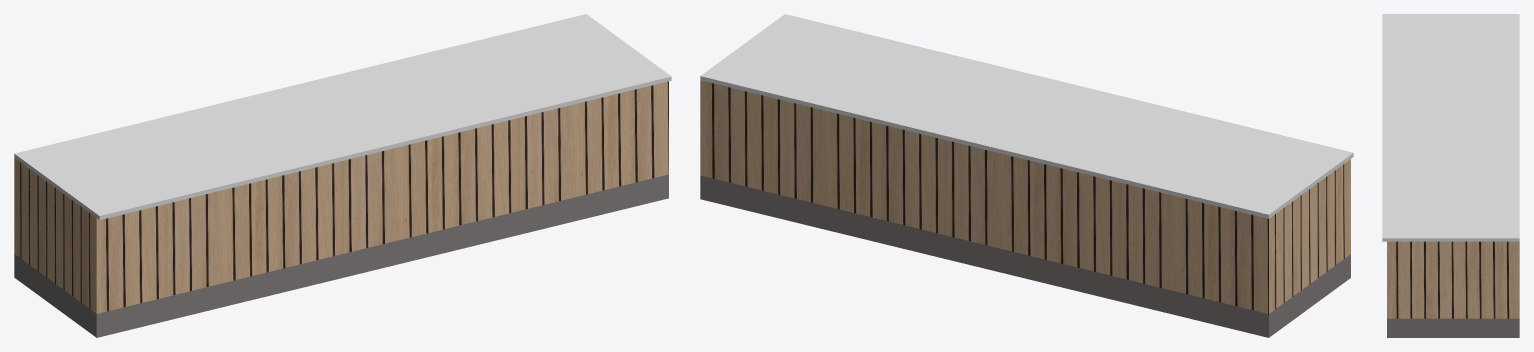
File: Counter.glb
The picture shows the model from 3 angles, left to right: view 1: azimuth 30°, elevation 25°; view 2: azimuth 150°, elevation 25°; view 3: azimuth 270°, elevation 25°; orthographic projection. The views are drawn at different scales.
Visible parts, largest first — view 1: Cube; view 2: Cube; view 3: Cube.
Part boxes in pixels (x1,y1,x2,y2): Cube: (14,14,671,337); Cube: (700,14,1353,337); Cube: (1382,14,1519,337).
Bounding box in the file's own units: 4 × 0.828 × 1.03.
2 materials, 1 textured.
